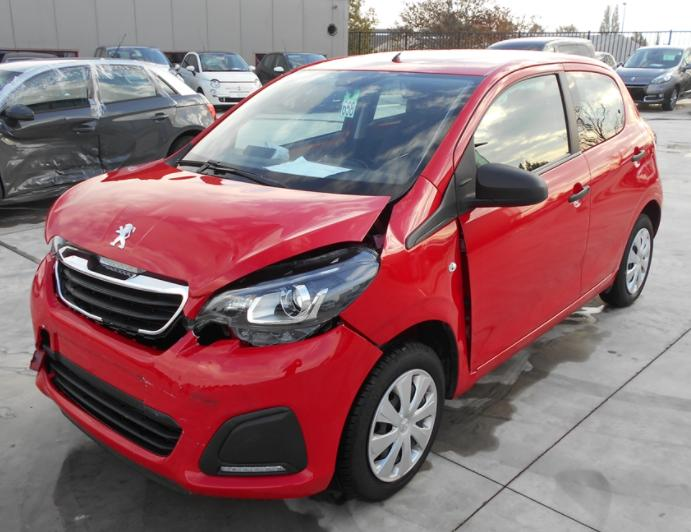Back-door: (561, 61, 654, 297)
Back-wheel: (599, 213, 653, 307)
Back-window: (565, 71, 626, 152)
Fender: (338, 174, 469, 382)
Front-bumper: (29, 252, 384, 499)
Front-door: (453, 61, 590, 372)
Front-wheel: (334, 338, 446, 503)
Front-window: (473, 74, 570, 198)
Grille: (54, 245, 190, 335)
Headlight: (192, 250, 380, 331)
Hood: (44, 158, 392, 320)
License-plate: (56, 334, 143, 417)
Mirror: (455, 135, 548, 215)
Quarter-panel: (635, 116, 663, 218)
Rocker-panel: (453, 268, 618, 399)
Roof: (293, 49, 609, 77)
Windshield: (167, 70, 484, 201)
